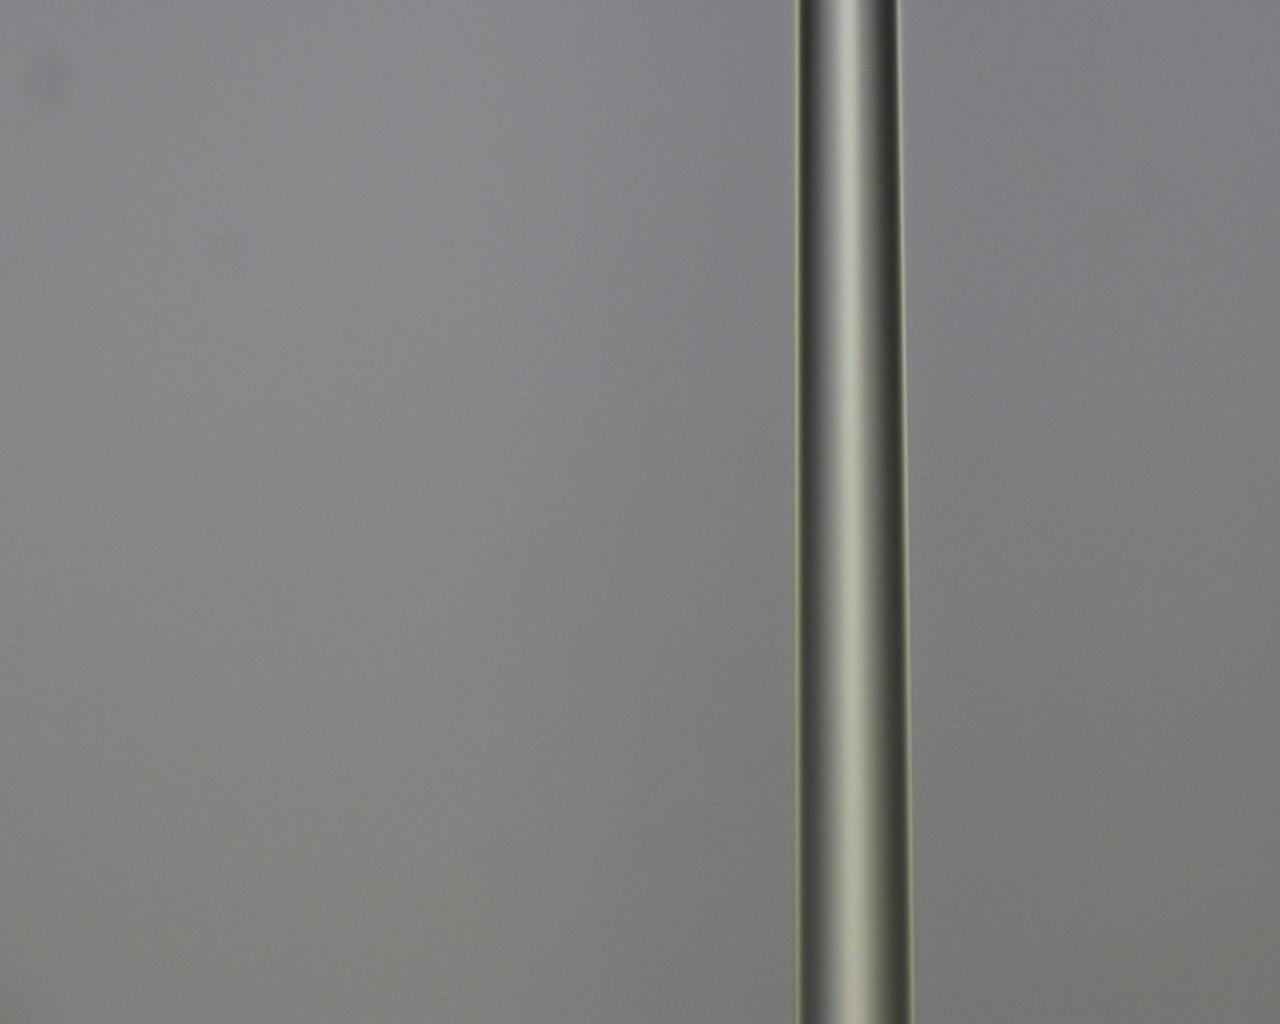fiber: (359, 0, 404, 1024)
